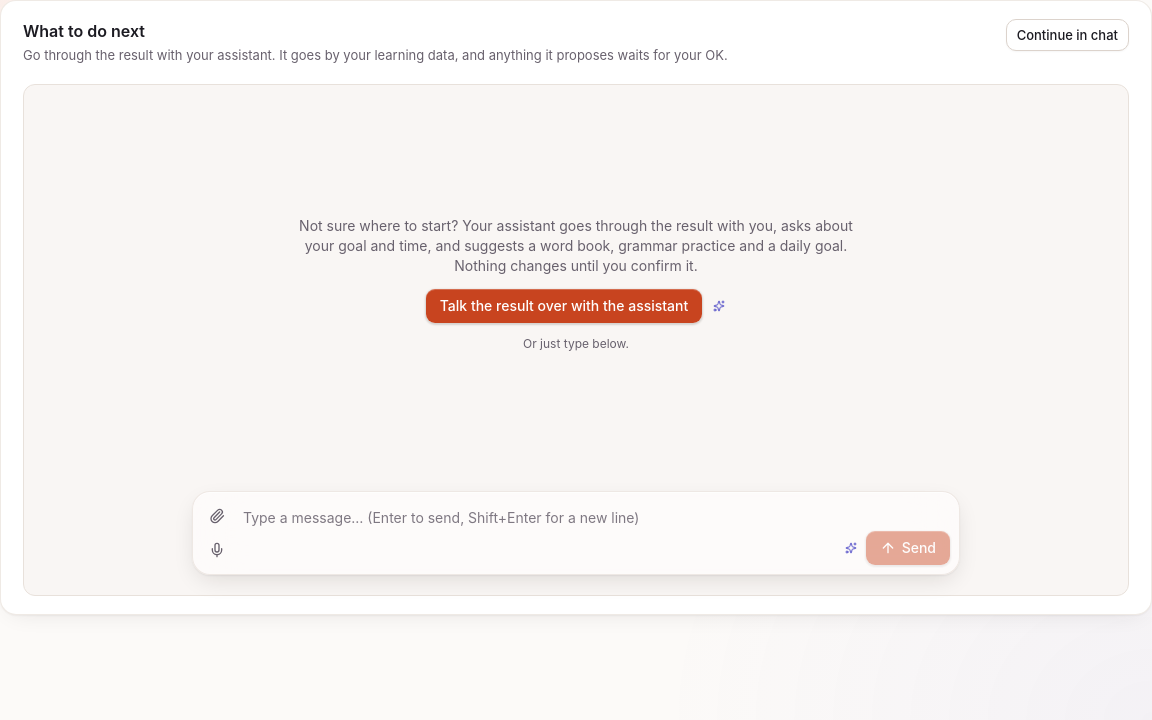
Test: PlacementTutor › says why when the assistant can't open, and keeps the way in
The width and height of the screenshot is (1152, 720).
Click the button "Talk the result over with the assistant".
click(564, 306)  # box [425,288,703,324]
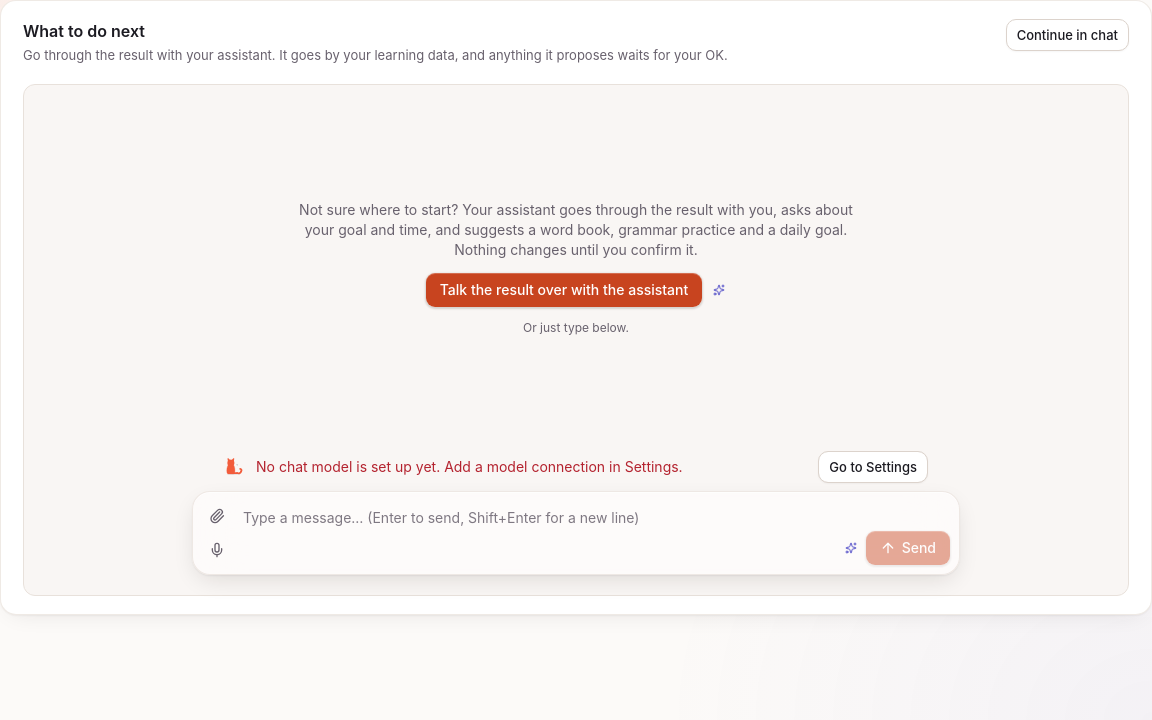
Expected: the button with test id "placement-plan" is enabled, [425,272,703,308]
Expected: the message is shown, [192,451,960,483]
